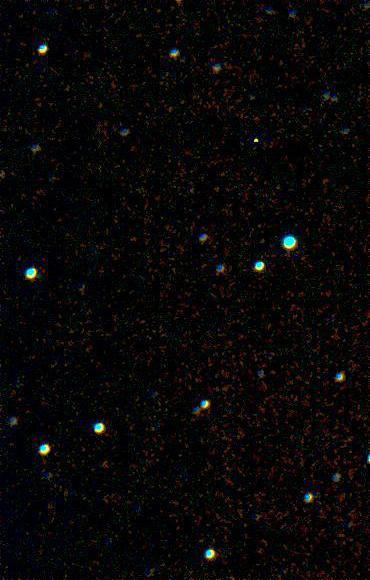star: (243, 125, 273, 155)
